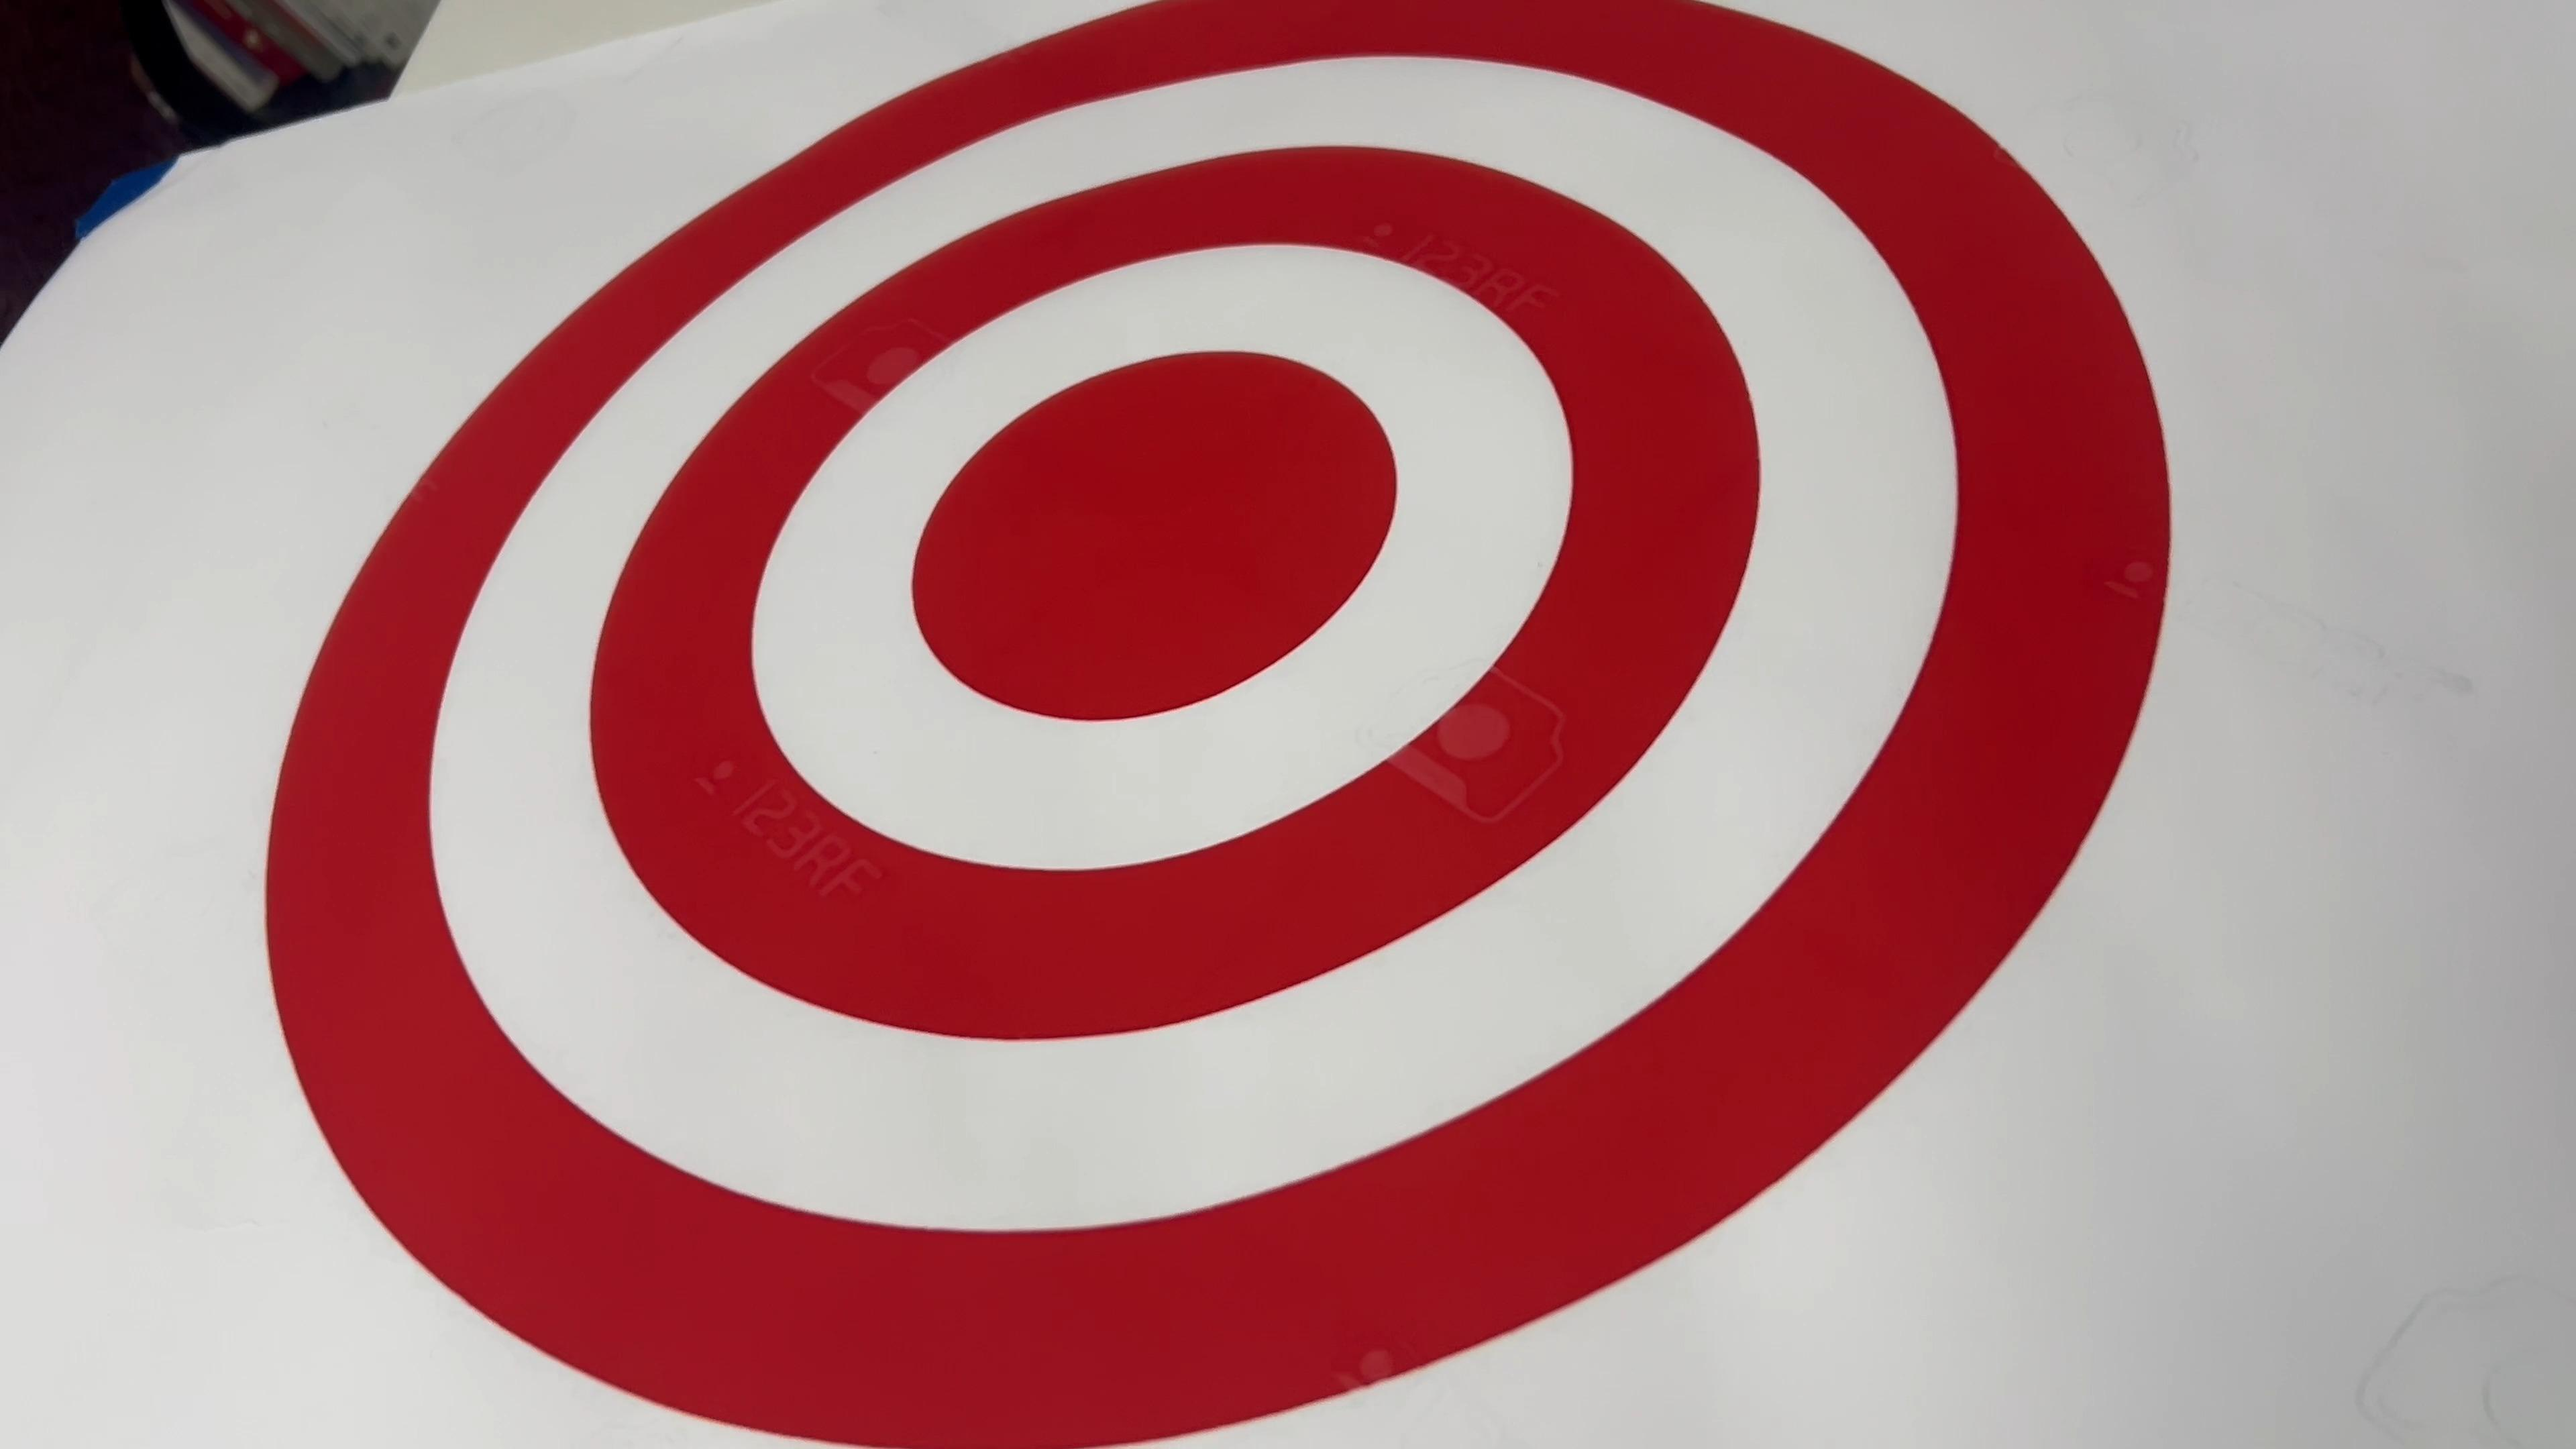target_red: (189, 0, 2197, 1449)
